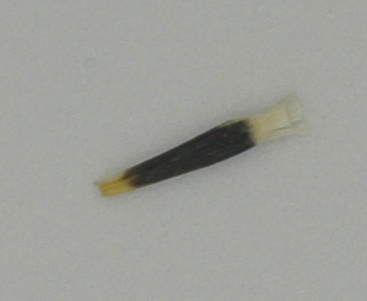เมล็ดดีติดกัน: (91, 90, 311, 199)
